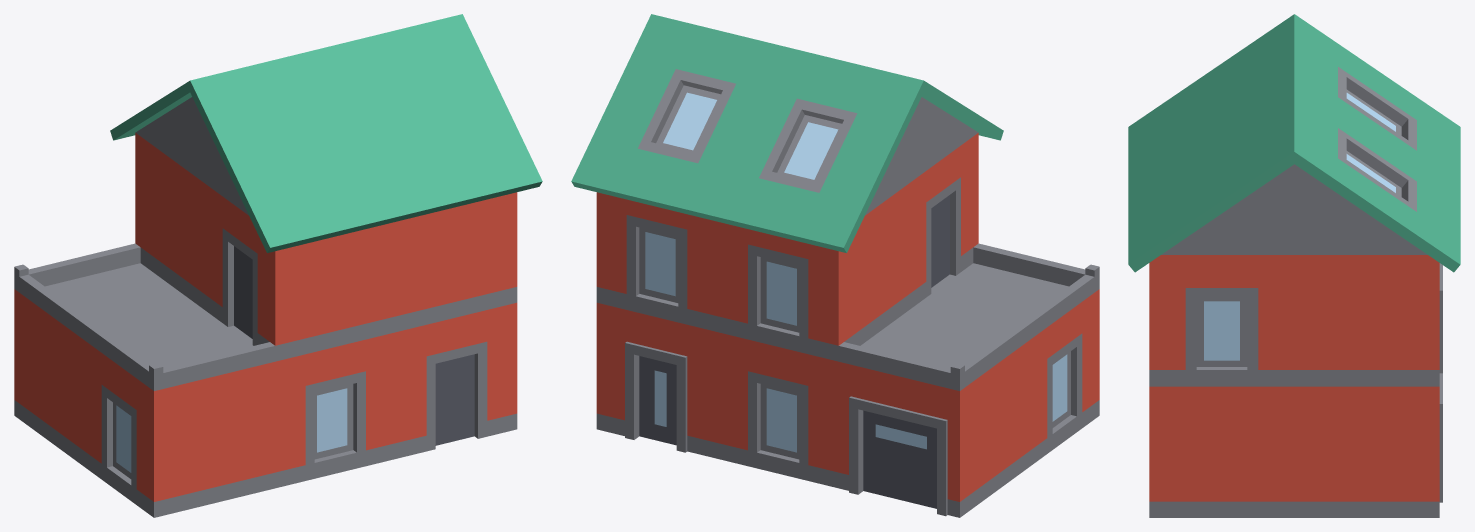
The model's file is house_type18.fbx.
3 views of the same model, side by side, from view 1: azimuth 30°, elevation 25°; view 2: azimuth 150°, elevation 25°; view 3: azimuth 270°, elevation 25° (orthographic). The views are drawn at different scales.
Parts seen in each view (by area): view 1: house_type18; view 2: house_type18; view 3: house_type18.
Part boxes in pixels (x1,y1,x2,y2): house_type18: (14,14,542,517); house_type18: (571,14,1099,517); house_type18: (1128,14,1460,517).
Bounding box in the file's own units: 12.5 × 11.38 × 9.16.
